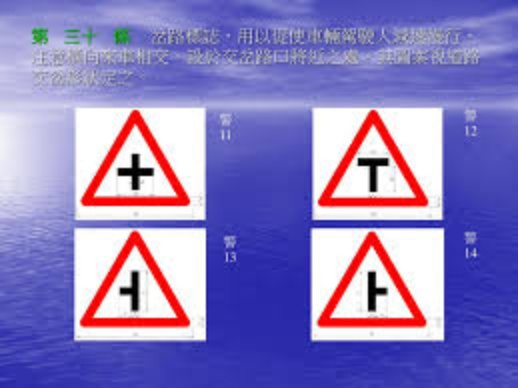Fork_road: (311, 223, 434, 331), (71, 225, 197, 330), (71, 105, 194, 209), (316, 105, 431, 216)
